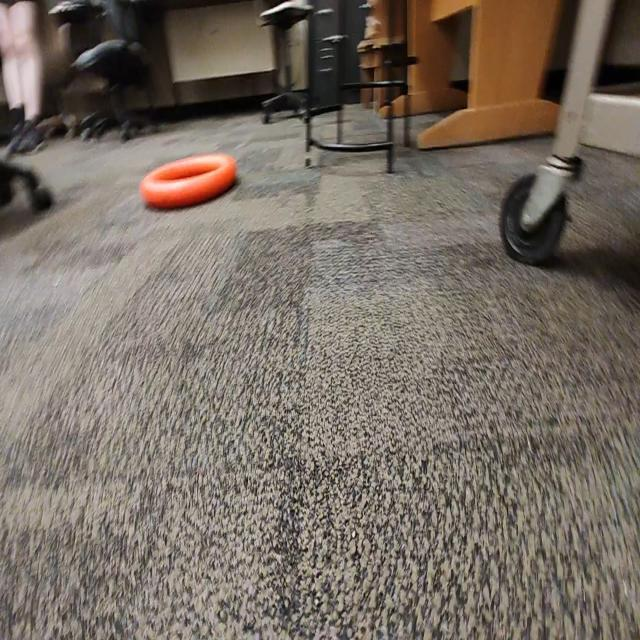note: (140, 152, 238, 210)
